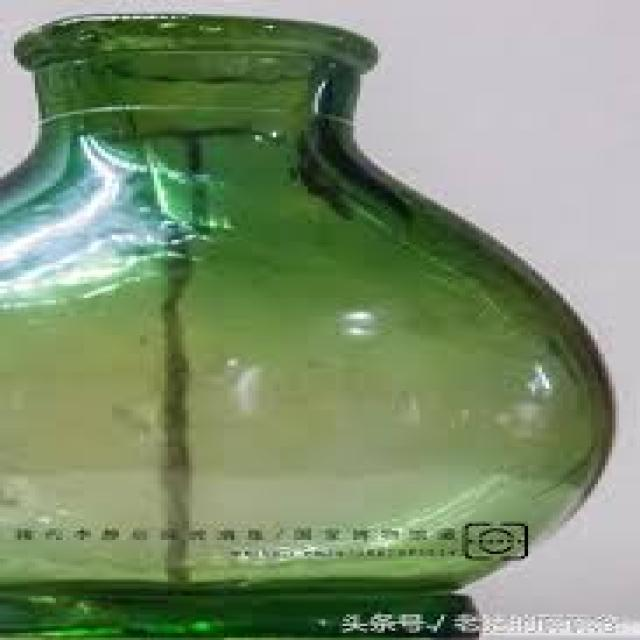glass: (0, 14, 612, 638)
